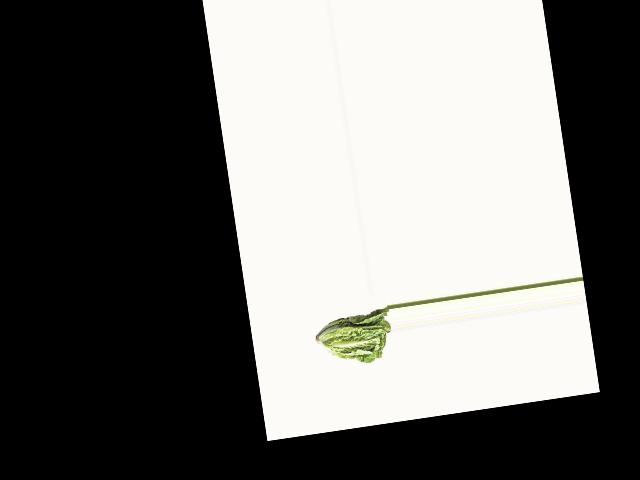lettuce: (314, 307, 395, 372)
